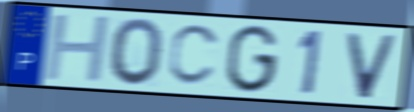1: (295, 29, 324, 98)
C: (165, 23, 223, 89)
G: (223, 23, 281, 95)
H: (42, 14, 114, 84)
O: (109, 16, 166, 89)
V: (344, 31, 400, 101)
